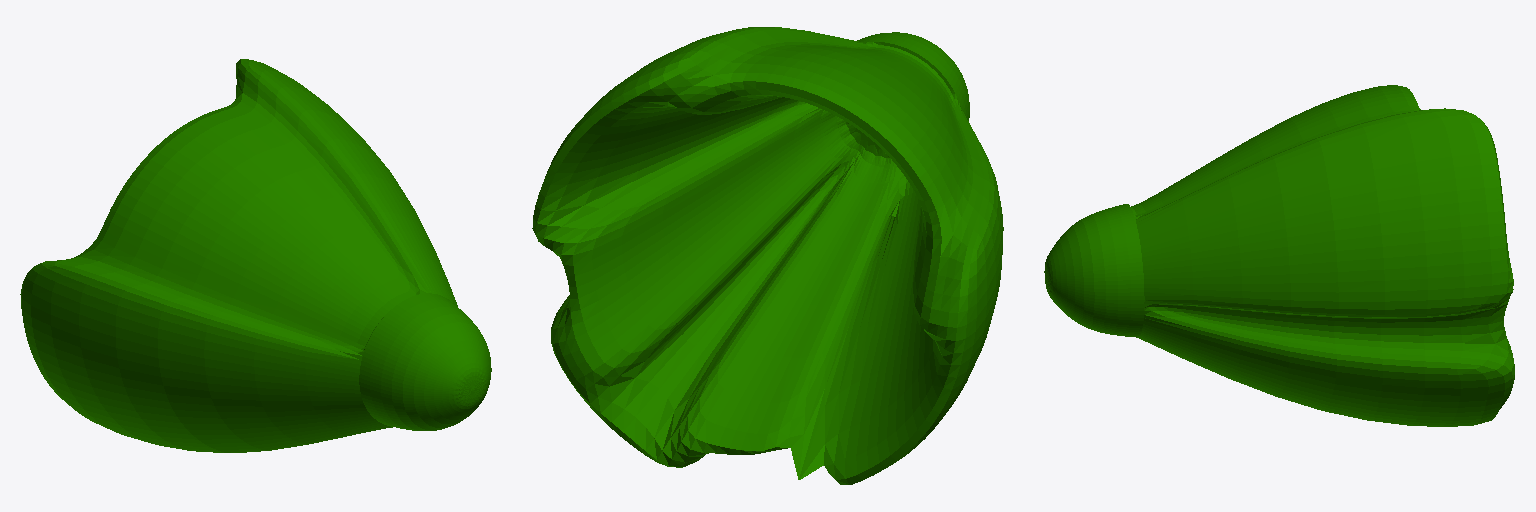
The robot description file, URDF, robot "corn":
<robot name="corn">
  <link name="body">
    <visual>
      <geometry>
        <mesh filename="corn_body.obj" scale="0.02 0.02 0.02"/>
      </geometry>
      <material name="Yellow">
        <color rgba="0.854993 0.495224 0.000000 1.0"/>
      </material>
    </visual>
    <collision>
      <geometry>
        <box size="0.04 0.04 0.04"/> <!-- 使用立方体作为简化的碰撞体 -->
      </geometry>
    </collision>
    <inertial>
      <mass value="0.1"/> <!-- 设置质量为0.1单位 -->
      <inertia ixx="0.001" iyy="0.001" izz="0.001" ixy="0" ixz="0" iyz="0"/> <!-- 简单的惯性矩阵 -->
    </inertial>
  </link>

  <link name="leaf">
    <visual>
      <geometry>
        <mesh filename="corn_leaf.obj" scale="0.025 0.025 0.025"/>
      </geometry>
      <material name="Green">
        <color rgba="0.181697 0.527584 0.000000 1.0"/> 
      </material>
    </visual>
    <collision>
      <geometry>
        <box size="0.01 0.01 0.01"/> <!-- 使用更小的立方体作为简化的碰撞体 -->
      </geometry>
    </collision>
    <inertial>
      <mass value="0.02"/> <!-- 叶子的质量设置为较小的值 -->
      <inertia ixx="0.0001" iyy="0.0001" izz="0.0001" ixy="0" ixz="0" iyz="0"/> <!-- 简单的惯性矩阵 -->
    </inertial>
  </link>

  <!-- 将叶子连接到主体 -->
  <joint name="body_to_leaf" type="fixed">
    <parent link="body"/>
    <child link="leaf"/>
    <origin xyz="0.0 0.0 0.0" rpy="0 0 0"/>
  </joint>
</robot>

--- Facts derived from the render (not from the file) ---
The picture shows the robot from 3 angles, left to right: view 1: azimuth 30°, elevation 25°; view 2: azimuth 150°, elevation 25°; view 3: azimuth 270°, elevation 25°; orthographic projection.
Robot: corn — 2 links, 1 joints (1 fixed); root link body; default pose: all joints at 0.
Links seen in each view (by area): view 1: leaf; view 2: leaf; view 3: leaf.
Link boxes in pixels (x1=…): leaf: x1=20, y1=59, x2=491, y2=452; leaf: x1=532, y1=27, x2=1003, y2=484; leaf: x1=1044, y1=85, x2=1514, y2=426.
Size in the robot's own frame: 0.0812 by 0.1013 by 0.0756 metres.
Meshes: 2 distinct files referenced, 1 mesh visuals loaded (1 OBJ); not drawn: 1 (reference not matched to a file when rendering).
